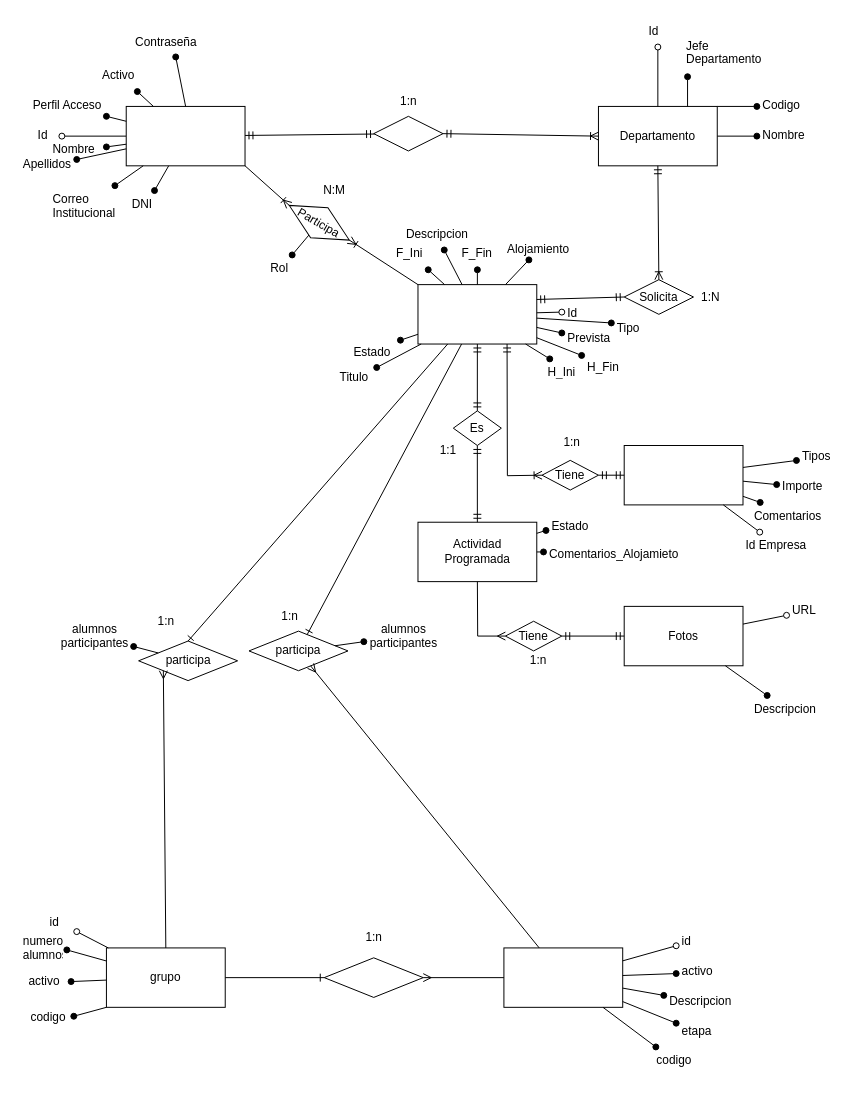
The diagram is 852 pixels wide and 1096 high, and some of its shapes have lost their labels. The box of each missing label's shape, as (x1, y1, x2, y2) in pixels:
Actividad Solicitada: (417, 284, 537, 344)
compuesto: (323, 957, 423, 997)
Curso: (503, 947, 623, 1007)
Pertenece: (373, 115, 443, 151)
Profesor: (125, 105, 245, 166)
Transporte: (623, 445, 743, 505)
